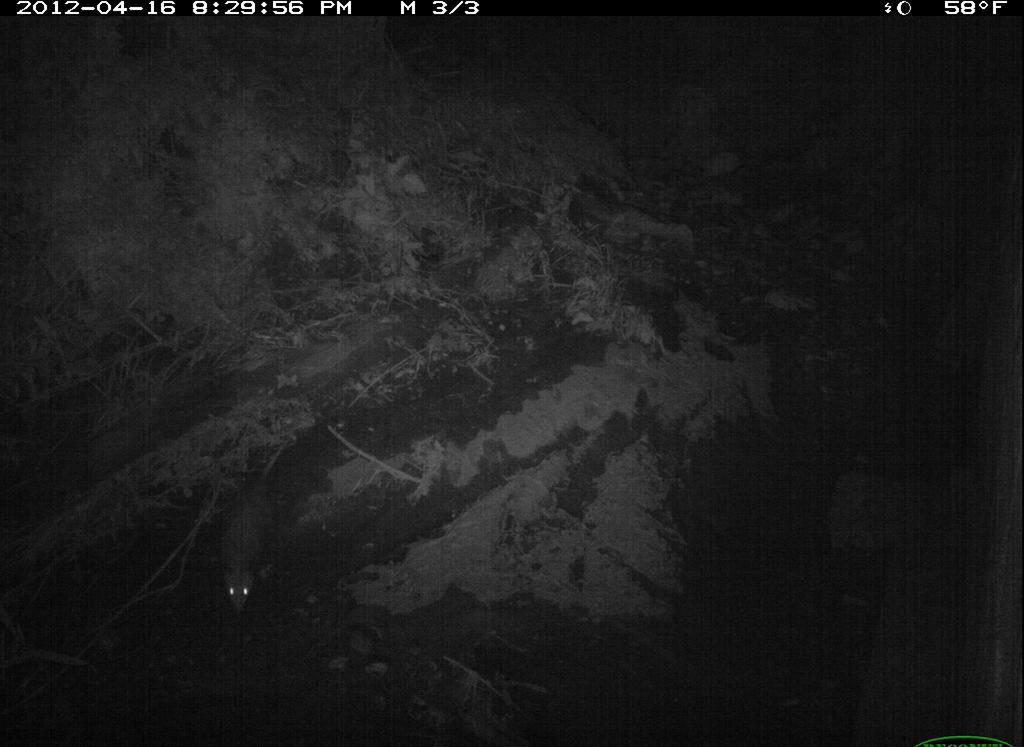opossum: (204, 449, 305, 641)
